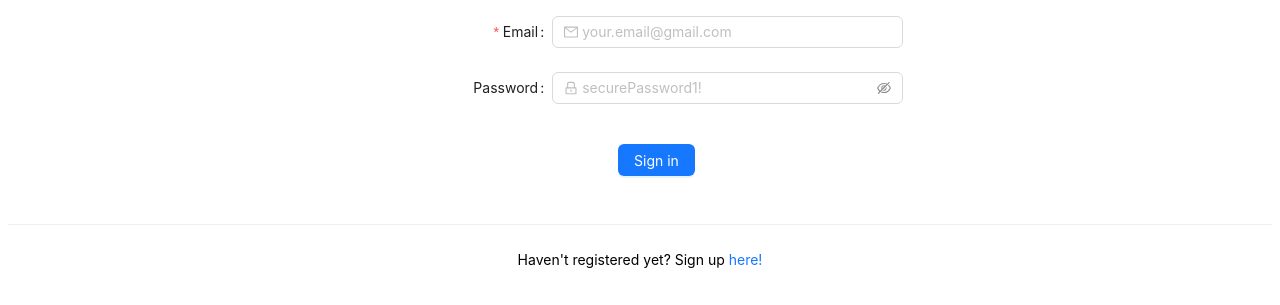
LoginForm - password validation › displays validation message for invalid password format with leading whitespace - " sS1!sS1!"
The width and height of the screenshot is (1280, 305).
Step 1. Type " sS1!sS1!" into the password field with placeholder "securePassword1!" → x=728, y=88, box [582,77,873,99]
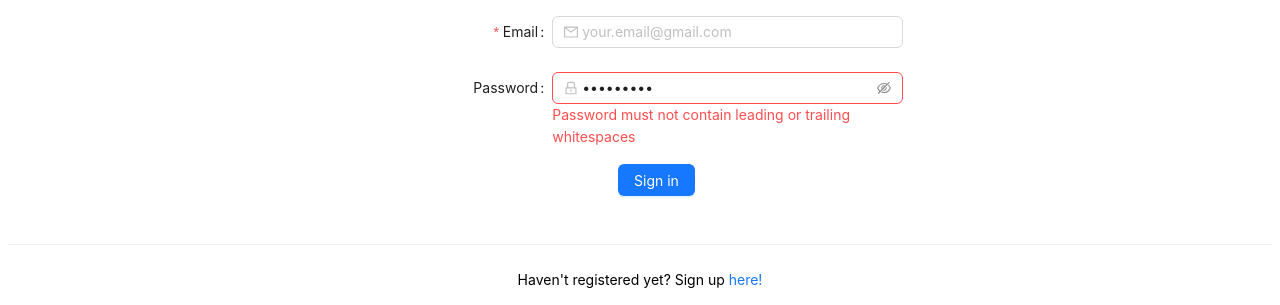
Result: the text "Password must not contain leading or trailing whitespaces" is shown at [552,106,850,145]
